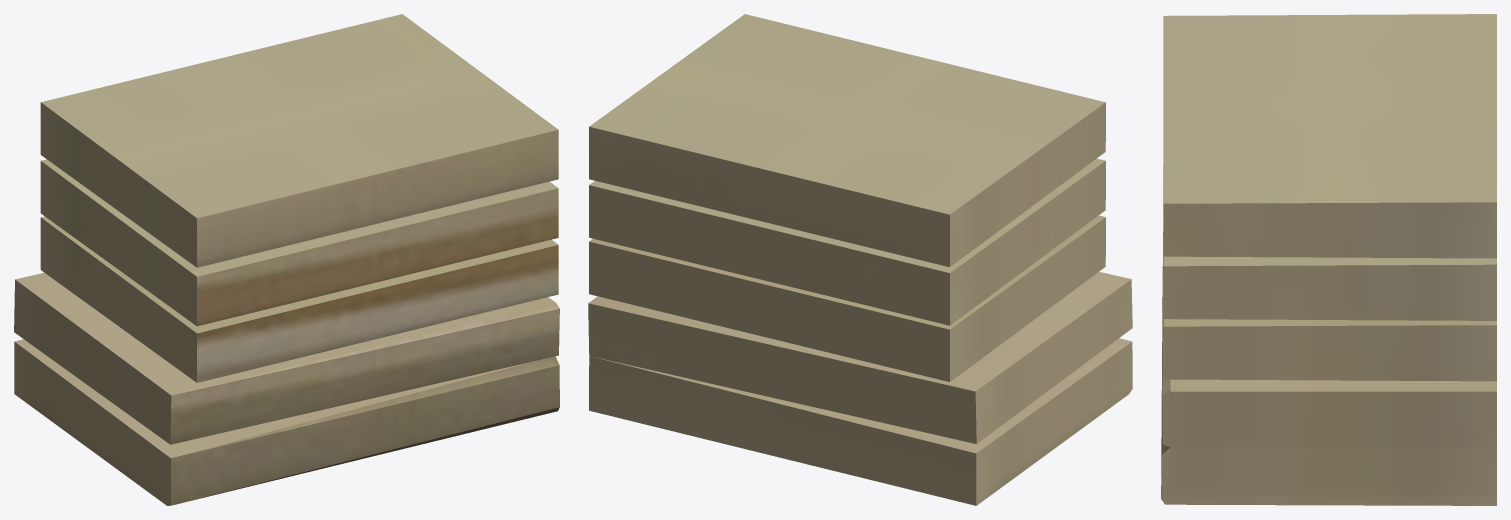
File: book1_h1.dae
3 renders of one model, left to right at view 1: azimuth 30°, elevation 25°; view 2: azimuth 150°, elevation 25°; view 3: azimuth 270°, elevation 25°, orthographic. The views are drawn at different scales.
Parts seen in each view (by area): view 1: node; view 2: node; view 3: node.
Boxes of the visible parts, x1=… form: node: x1=14, y1=14, x2=559, y2=505; node: x1=588, y1=14, x2=1132, y2=505; node: x1=1161, y1=14, x2=1496, y2=505.
Size of the model in its own units: 0.1722 by 0.1206 by 0.1206.
1 material, 1 textured.
